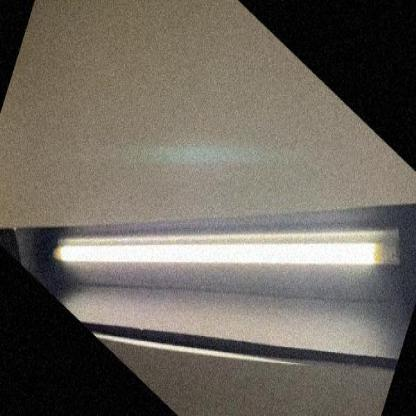light_on: (34, 0, 413, 415)
